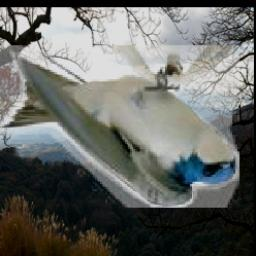Swallow: (0, 45, 238, 208)
